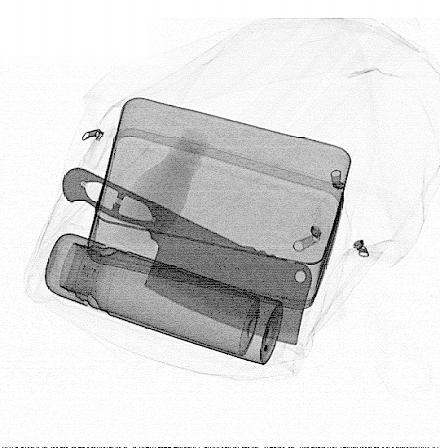Knife: (59, 165, 313, 346)
